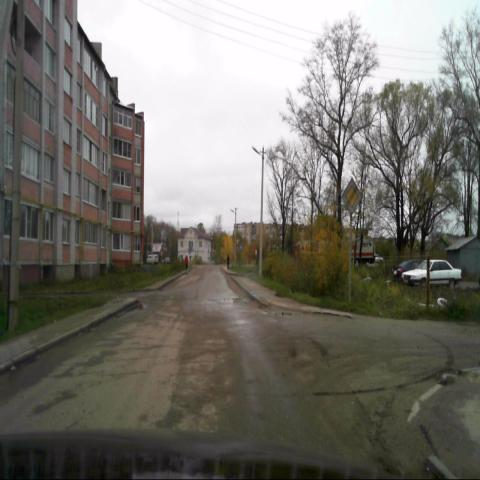2_2: (341, 176, 362, 214)
